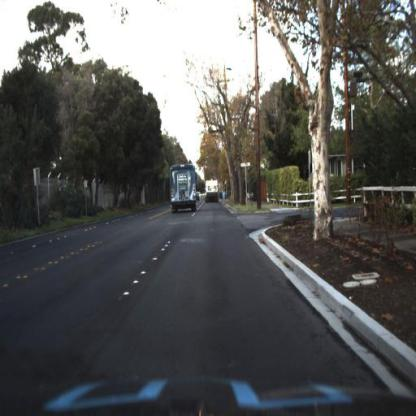truck: (169, 160, 199, 220), (204, 177, 222, 206)
